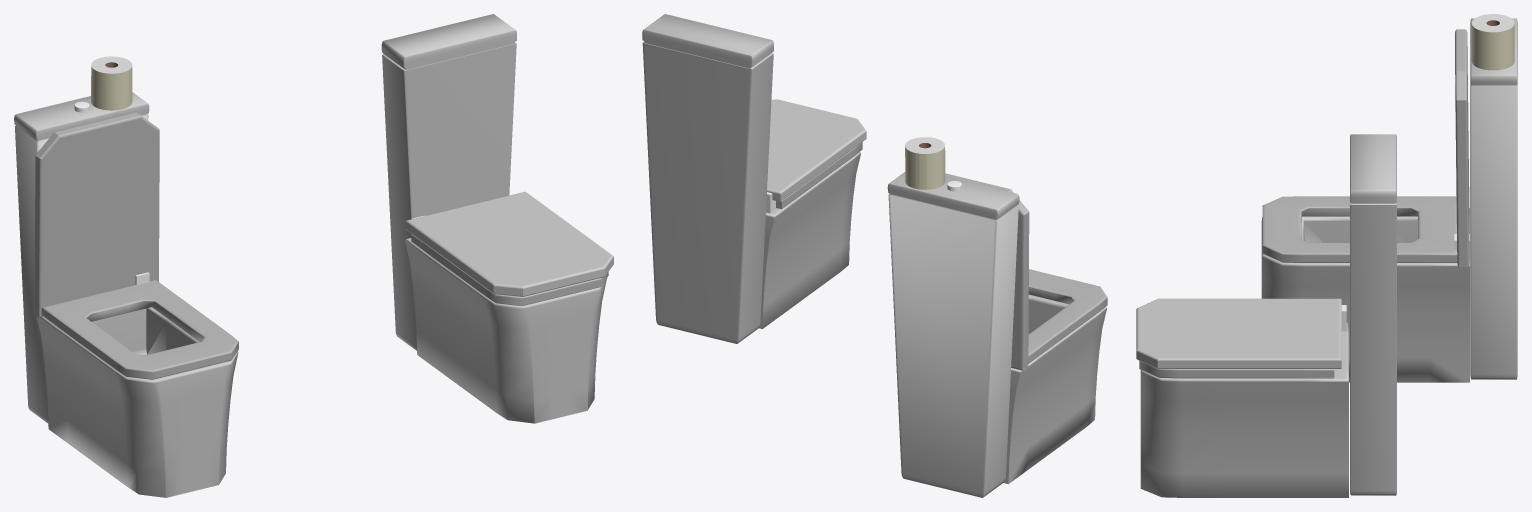
The picture shows the model from 3 angles, left to right: view 1: azimuth 30°, elevation 25°; view 2: azimuth 150°, elevation 25°; view 3: azimuth 270°, elevation 25°; orthographic projection. The views are drawn at different scales.
Visible parts, largest first — view 1: Cube.011, Cube.006, Cylinder.008; view 2: Cube.011, Cube.006, Cylinder.008; view 3: Cube.011, Cube.006, Cylinder.008.
Part boxes in pixels (bbox=[...]): Cube.011: bbox=[381, 14, 613, 423]; Cube.006: bbox=[14, 92, 238, 497]; Cylinder.008: bbox=[91, 56, 132, 110]; Cube.011: bbox=[642, 14, 866, 343]; Cube.006: bbox=[887, 172, 1107, 497]; Cylinder.008: bbox=[905, 137, 945, 189]; Cube.011: bbox=[1136, 134, 1396, 497]; Cube.006: bbox=[1261, 18, 1517, 382]; Cylinder.008: bbox=[1471, 14, 1514, 70].
Size of the model in its own units: 755 by 575 by 554.
